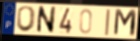0: (79, 8, 93, 35)
4: (58, 7, 73, 35)
I: (104, 8, 111, 37)
M: (112, 8, 138, 38)
N: (36, 5, 57, 34)
O: (15, 5, 38, 33)
